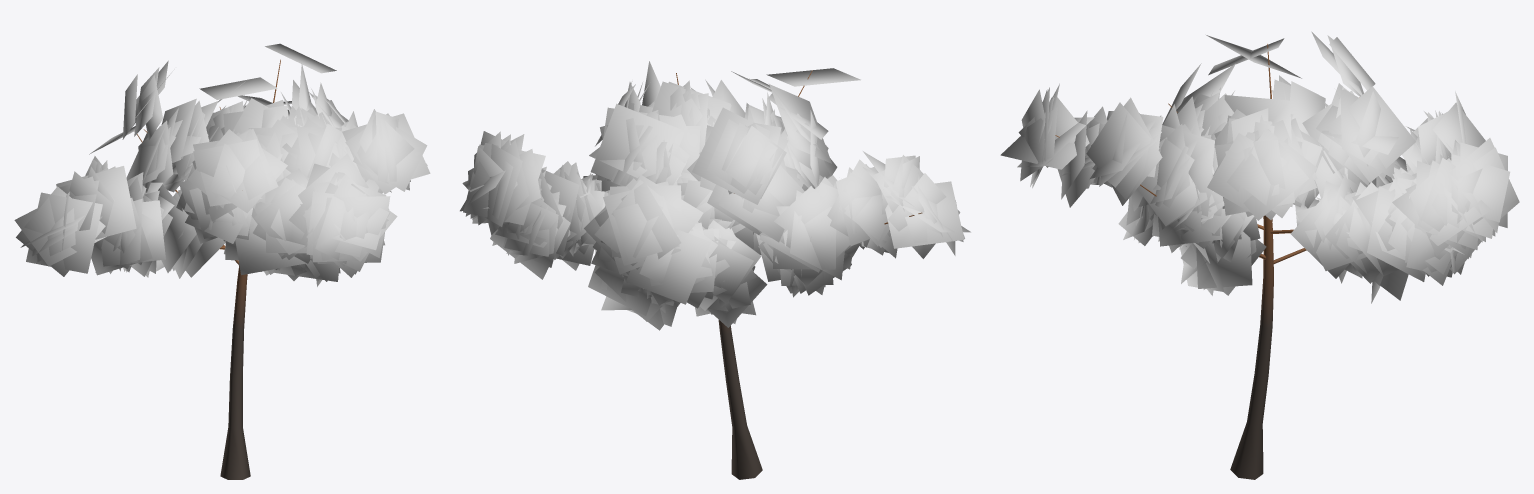
3 views of the same model, side by side, from view 1: azimuth 30°, elevation 25°; view 2: azimuth 150°, elevation 25°; view 3: azimuth 270°, elevation 25° (orthographic). The views are drawn at different scales.
Visible parts, largest first — view 1: crown, trunk; view 2: crown, trunk; view 3: crown, trunk.
Boxes of the visible parts, left/top/right/bottom form: crown: left=14, top=43, right=430, bottom=286; trunk: left=134, top=59, right=280, bottom=479; crown: left=460, top=61, right=970, bottom=330; trunk: left=676, top=70, right=922, bottom=479; crown: left=1000, top=31, right=1519, bottom=303; trunk: left=1055, top=44, right=1359, bottom=479.
Bounding box in the file's own units: 20.74 × 19.19 × 21.13.
